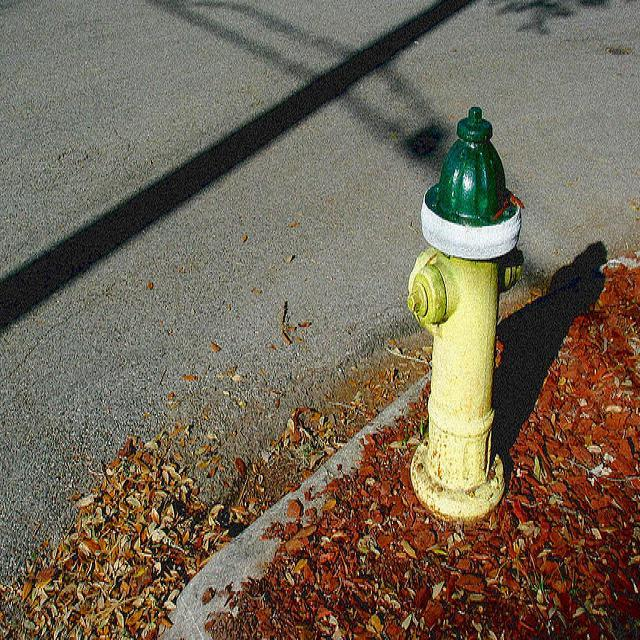fire_hydrant: (407, 102, 523, 521)
